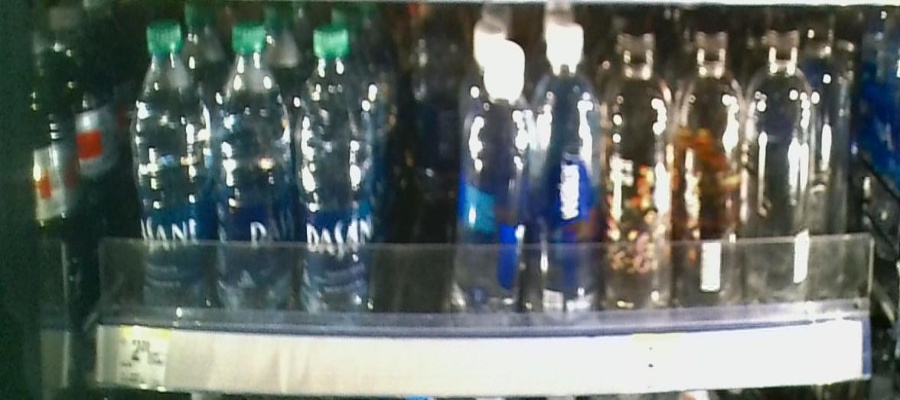bottle: (295, 25, 379, 324), (210, 19, 290, 319), (127, 15, 202, 323), (460, 38, 532, 333), (536, 24, 601, 315), (608, 39, 674, 311), (680, 45, 746, 303), (752, 36, 814, 307), (409, 17, 457, 208)
